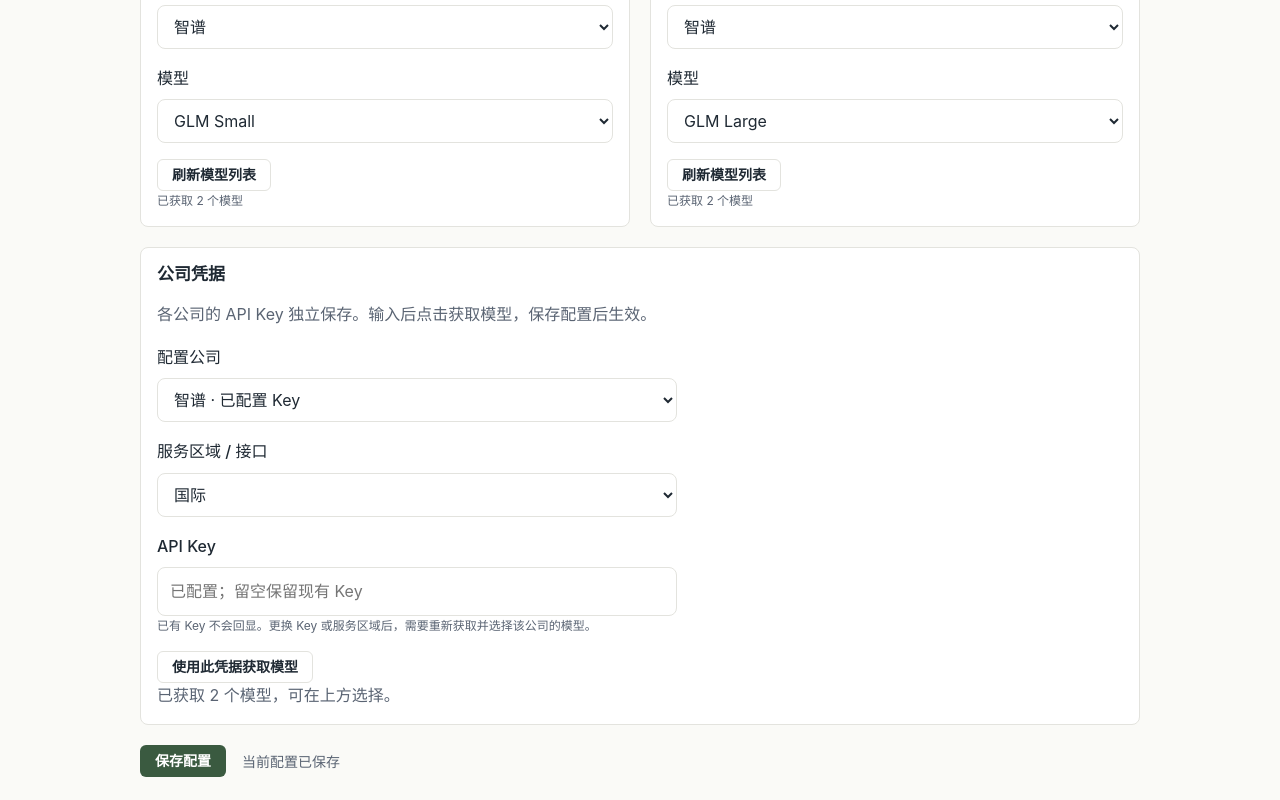
Test: does not send draft keys while typing and never transfers a model across companies
(page scrolled)
Select "OpenAI" in the dropdown labelled "配置公司" at [417, 400], box [157,378,677,422]
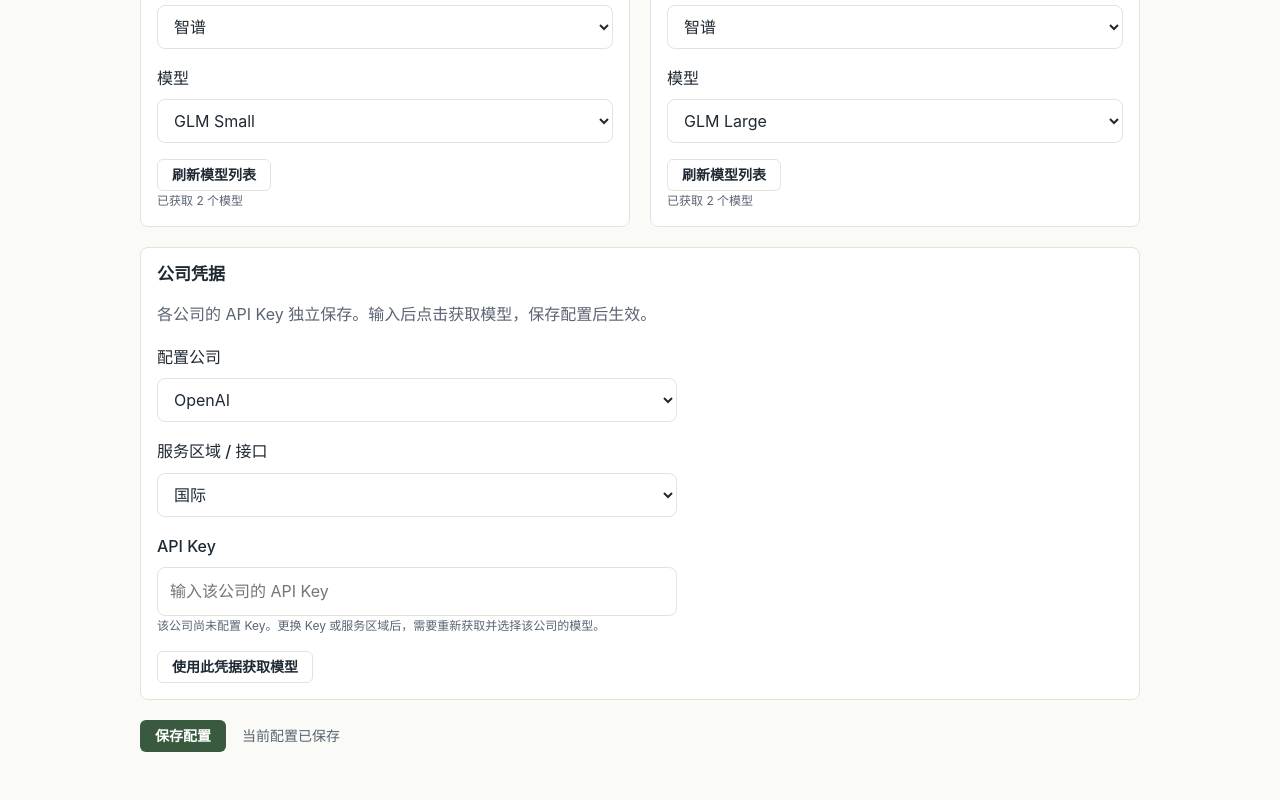
Type "draft-secret" into the password field labelled "API Key".
click(417, 591); type("draft-secret")  # box [157,567,677,616]
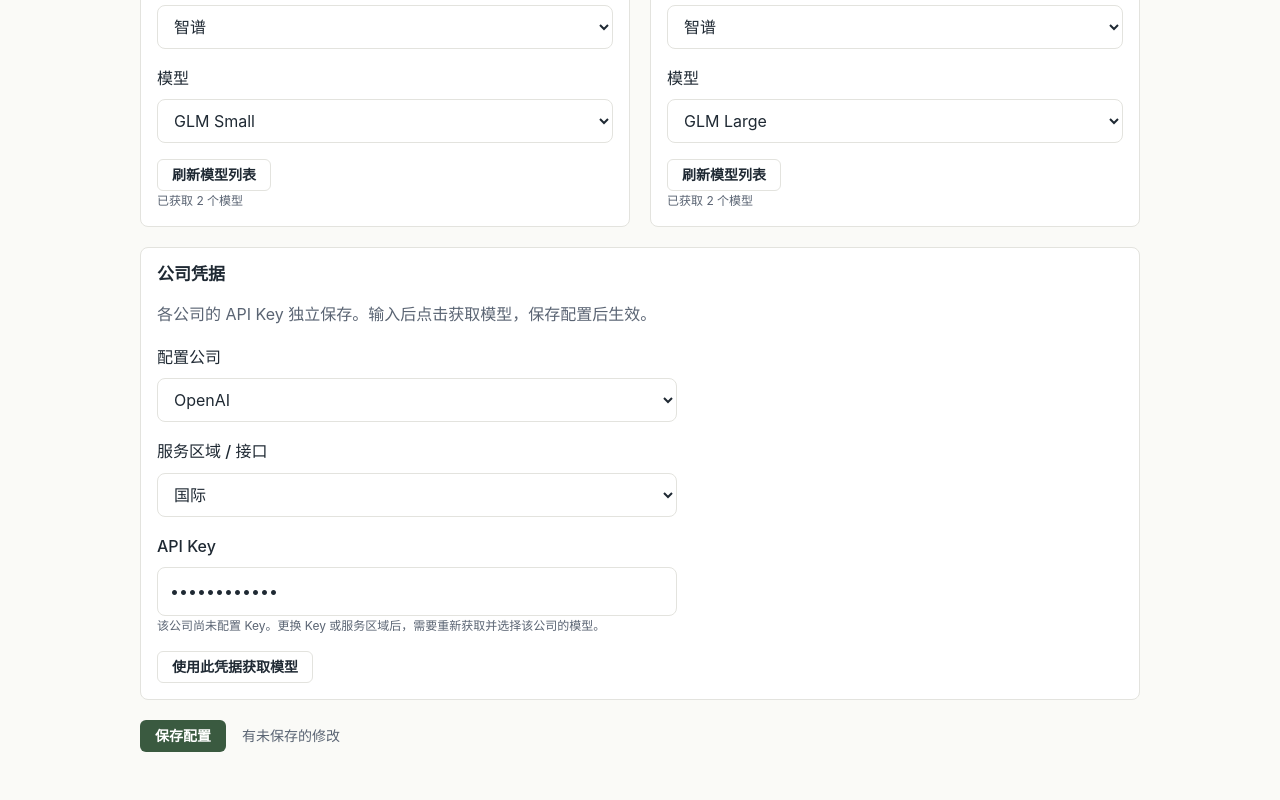
Select "OpenAI" in the 1st dropdown labelled "公司" at [385, 27], box [157,5,613,49]
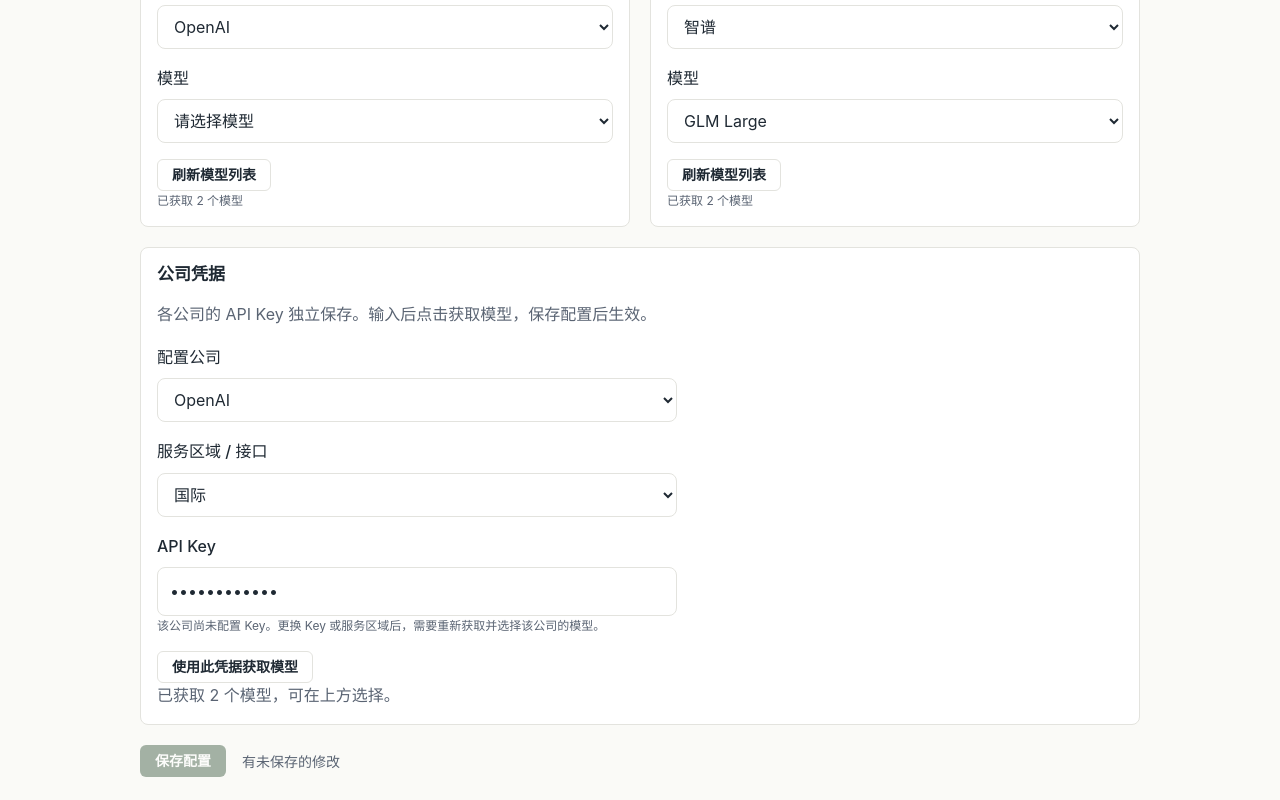
expect the 2nd dropdown labelled "模型" shows "GLM Large": met, box [667,99,1123,143]
expect the 1st dropdown labelled "模型" shows "请选择模型": met, box [157,99,613,143]
